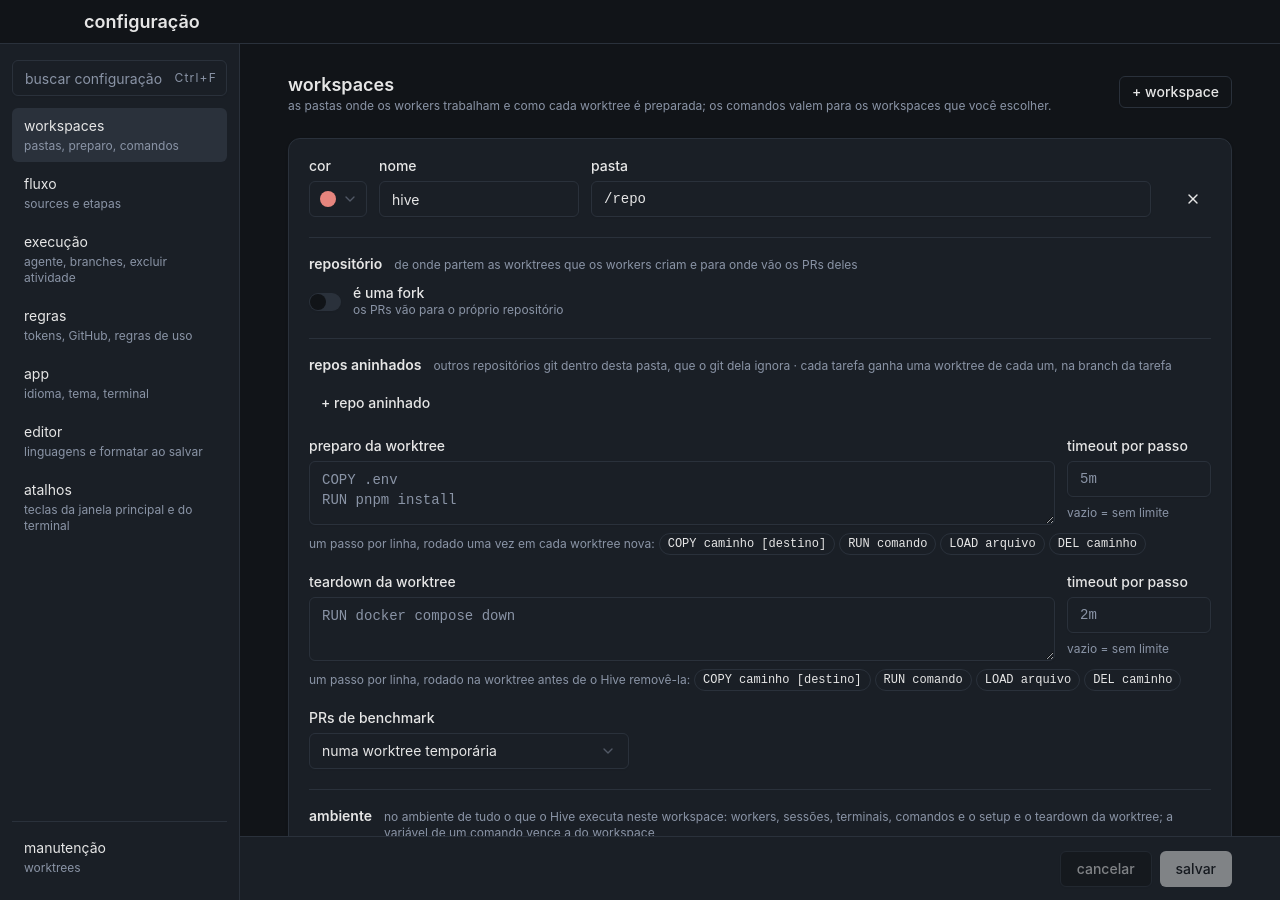
it: a saved scope naming a workspace the form removed stops the save on editor, naming it (#780)
Click the button "editor linguagens e formatar ao salvar": (120, 441) [12, 414, 227, 468]
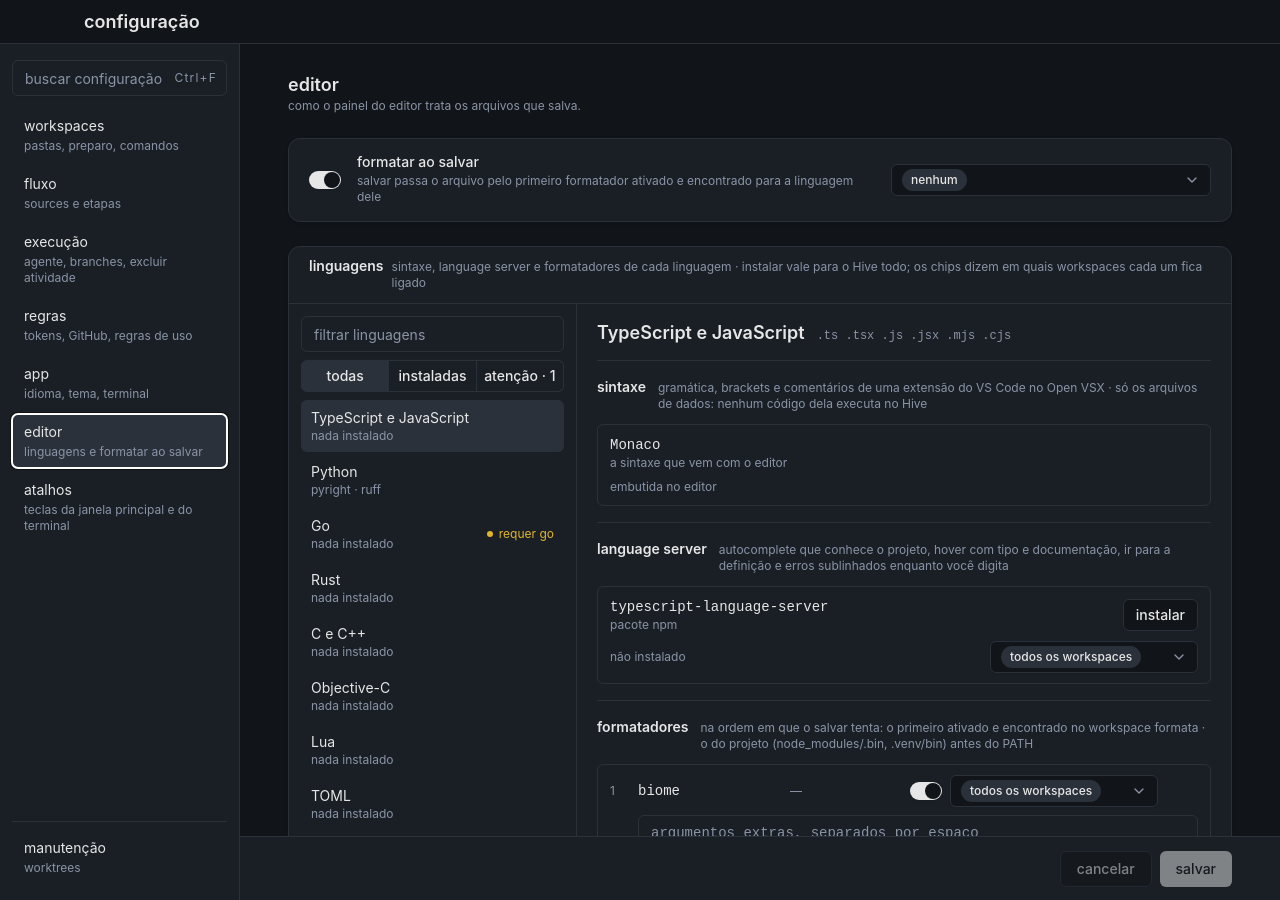
Click the switch named "formatar ao salvar": (325, 180) [309, 171, 341, 189]
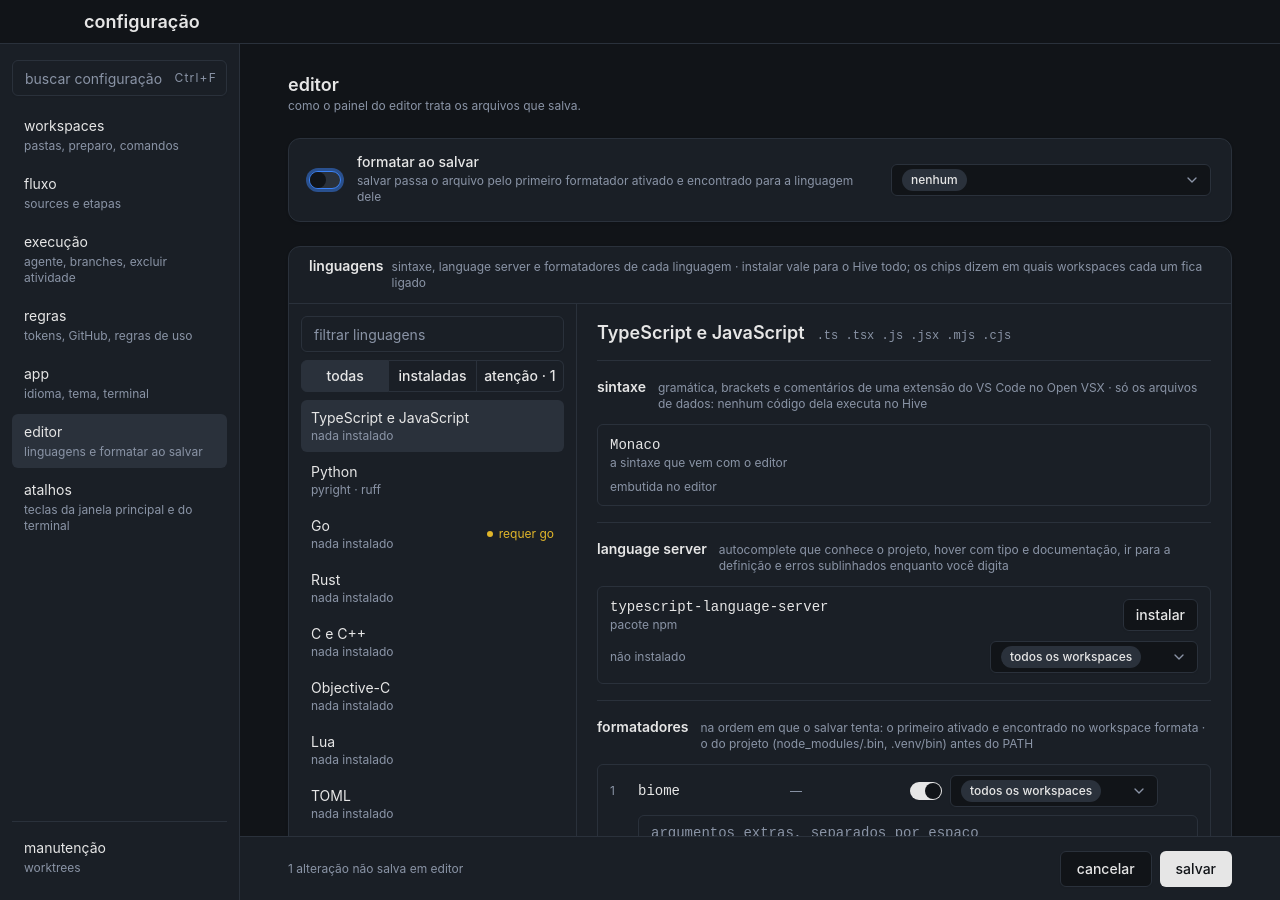
Click the button "salvar": (1196, 868) [1160, 850, 1232, 886]
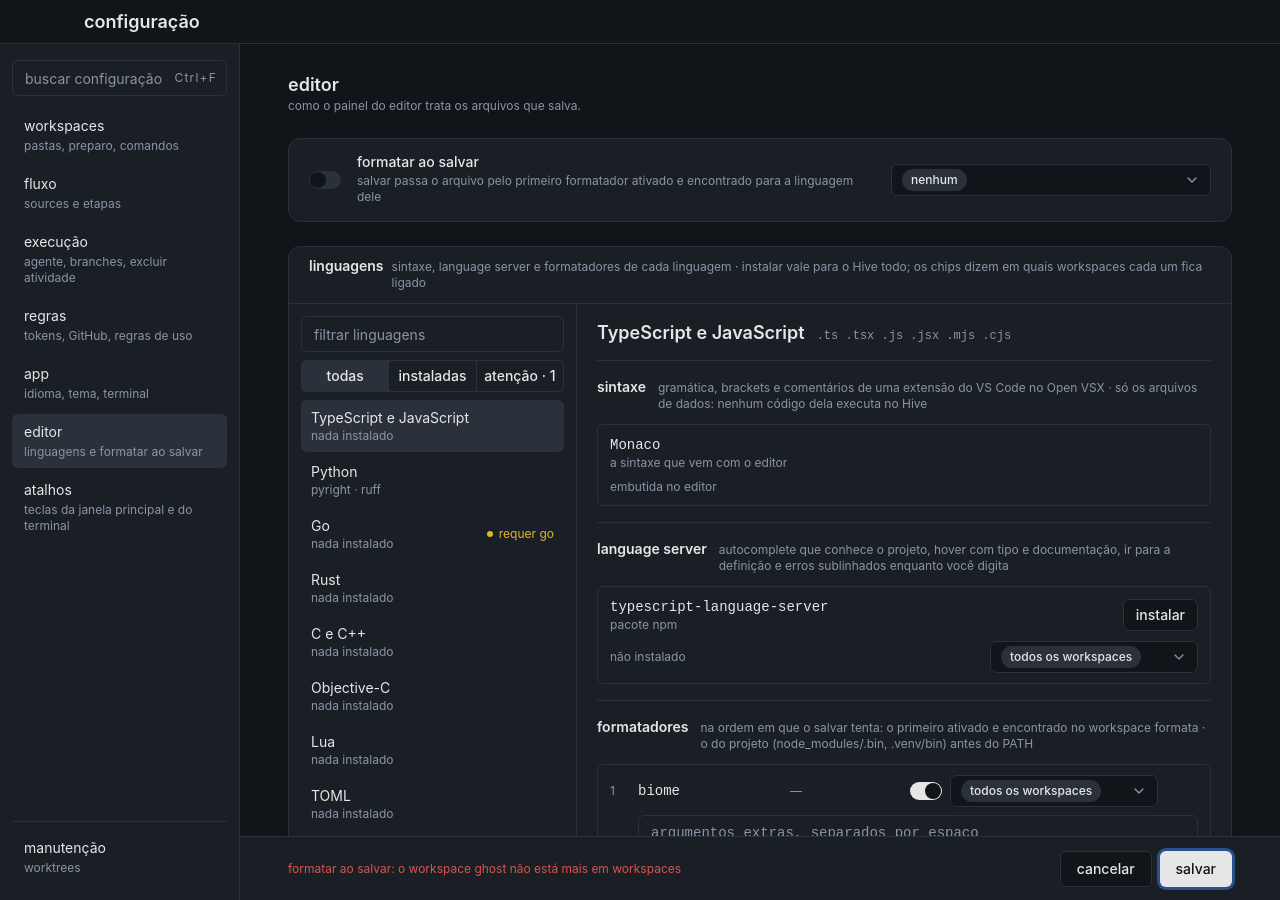
Expected: the text "formatar ao salvar: o workspace ghost não está mais em workspaces" is shown, [288, 860, 681, 876]
